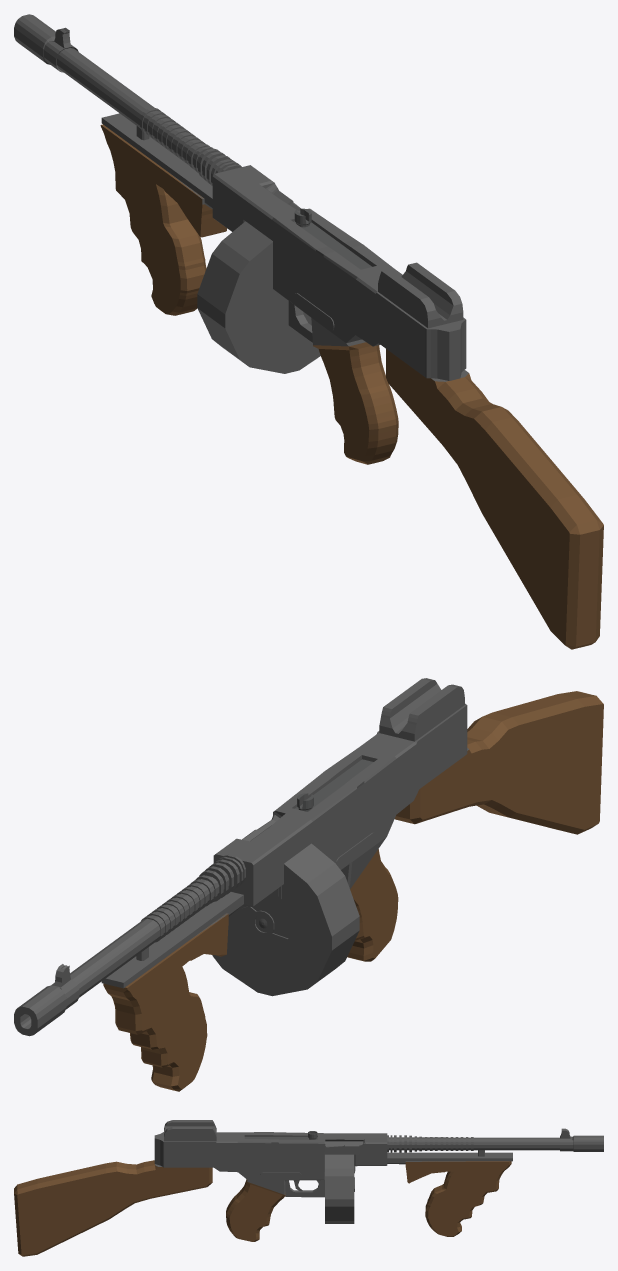
Rendered from Thompson.fbx.
3 views of the same model, one above another, from view 1: azimuth 30°, elevation 25°; view 2: azimuth 150°, elevation 25°; view 3: azimuth 270°, elevation 25° (orthographic). The views are drawn at different scales.
Parts seen in each view (by area): view 1: Thompson, Mag, Cube.001; view 2: Thompson, Mag, Cube.001; view 3: Thompson, Mag, Cube.001.
Boxes of the visible parts, box(x1,y1,x2,y2) form: Thompson: box(14, 14, 603, 649); Mag: box(197, 221, 320, 373); Cube.001: box(293, 208, 371, 269); Thompson: box(14, 678, 603, 1091); Mag: box(212, 843, 359, 996); Cube.001: box(295, 759, 373, 811); Thompson: box(14, 1120, 603, 1256); Mag: box(325, 1154, 356, 1223); Cube.001: box(244, 1131, 317, 1139).
Size of the model in its own units: 102 by 181 by 748.
